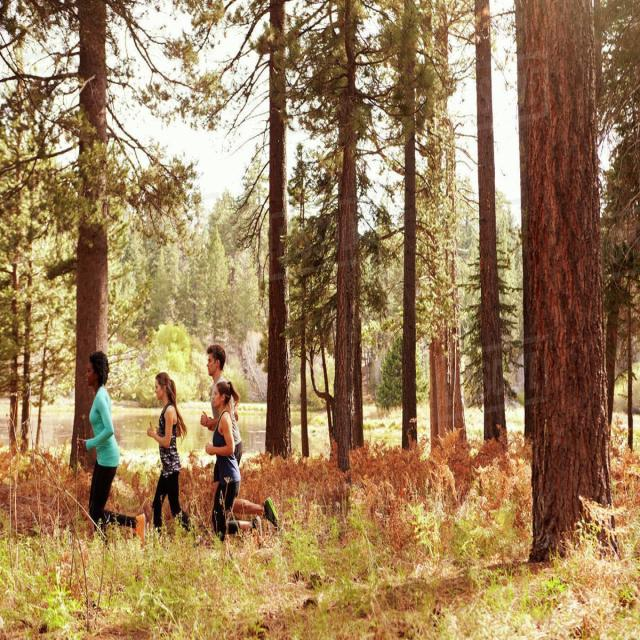body: (200, 343, 283, 536), (76, 350, 147, 552), (206, 378, 264, 566), (146, 370, 204, 552)
